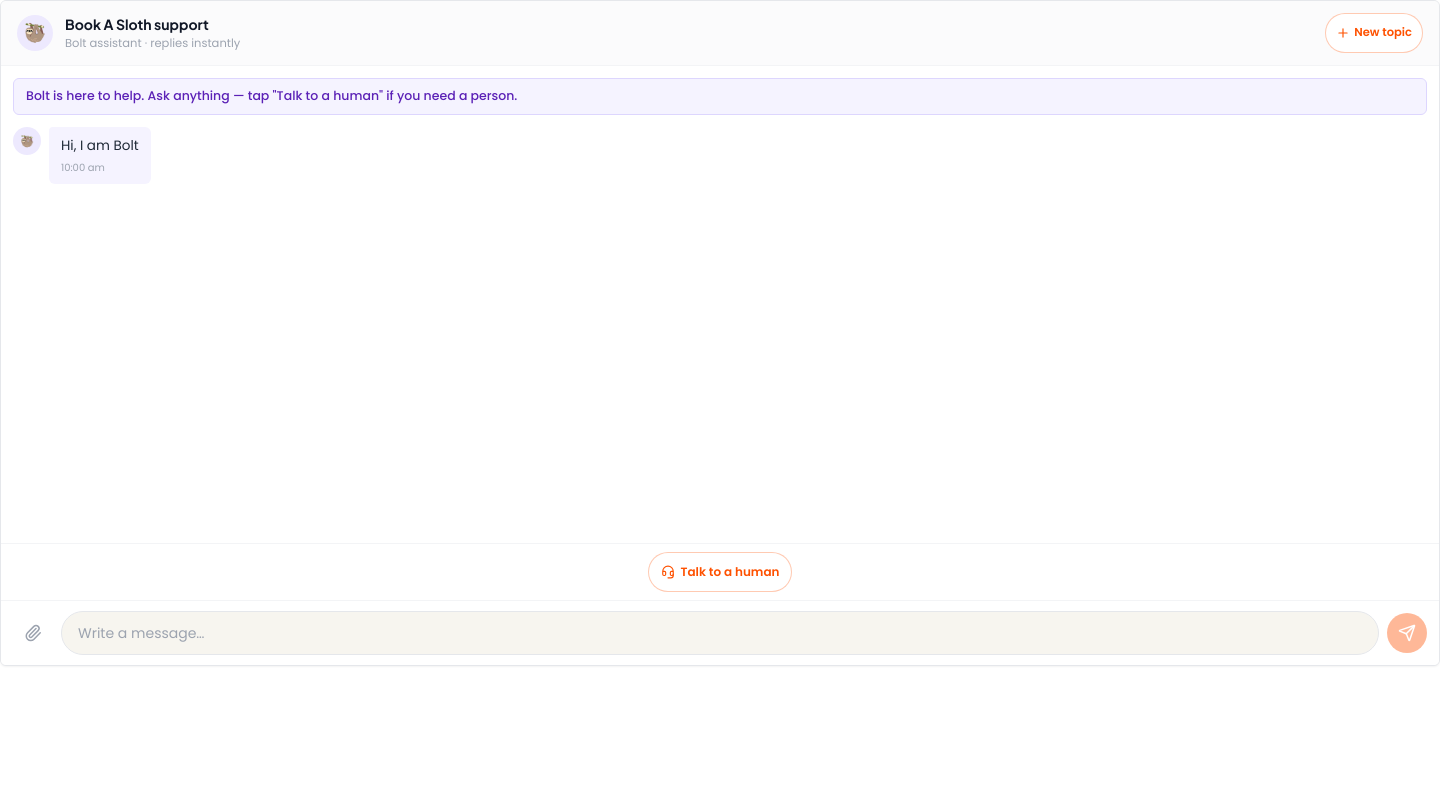
Test: SupportChat › shows a "Bolt is typing" indicator after the user sends, in the bot phase
expect the text "Hi, I am Bolt" is shown: met, box x1=61 y1=135 x2=139 y2=156
In the field labelled "message": [720, 633] box x1=61 y1=611 x2=1379 y2=655, type "help me"
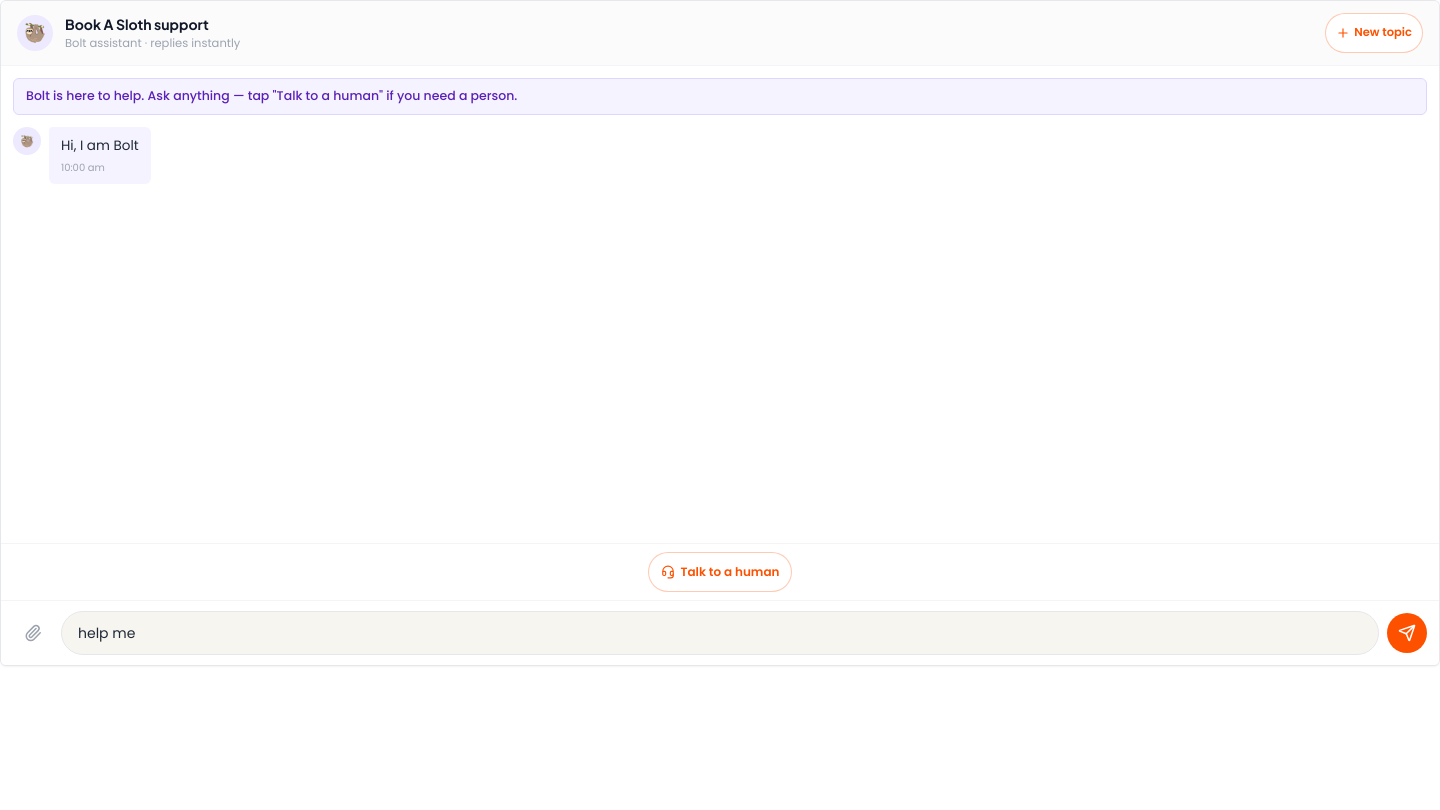
Click the button named "Send": [1407, 633] box x1=1387 y1=613 x2=1427 y2=653
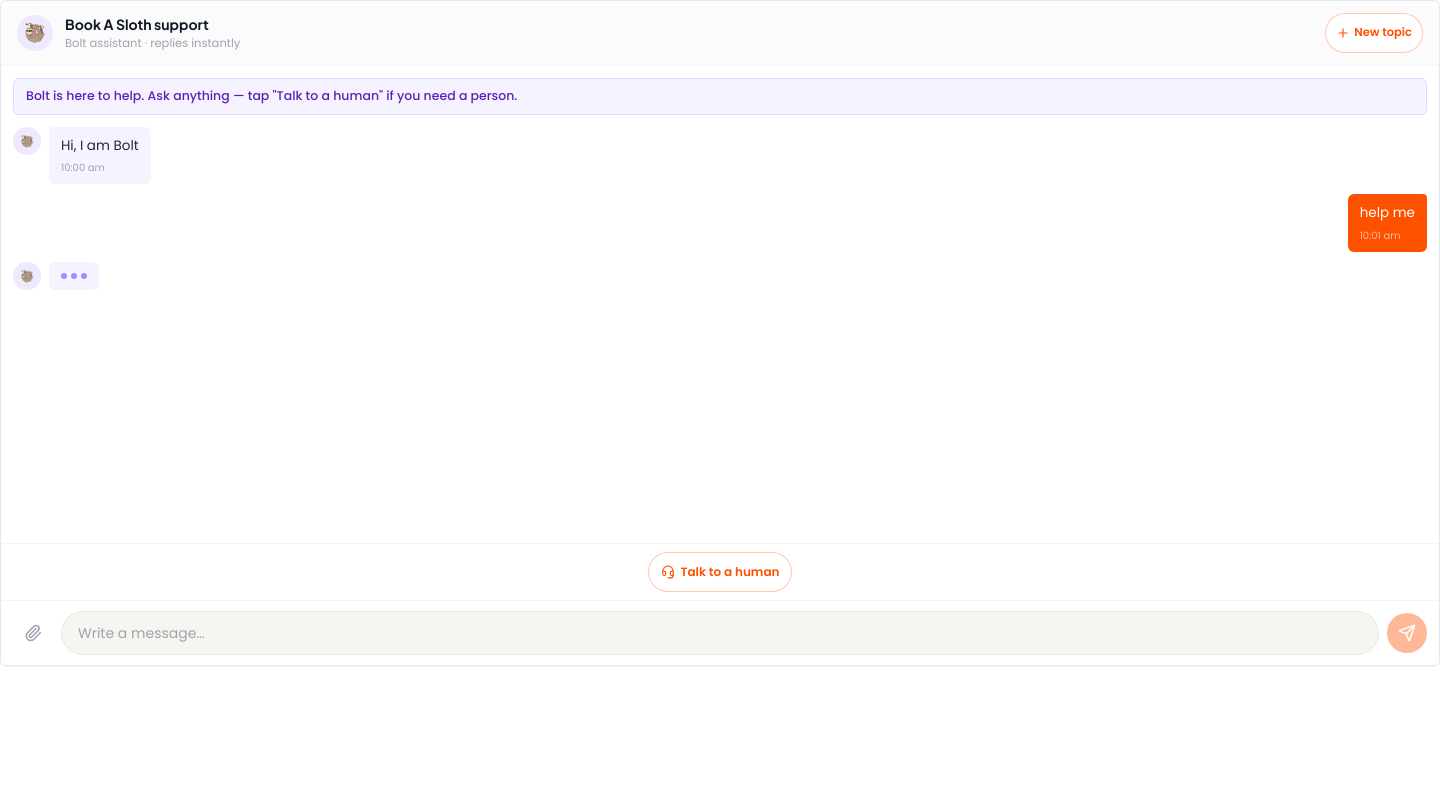
expect the message named "bolt is typing" is shown: met, box x1=13 y1=262 x2=99 y2=290
